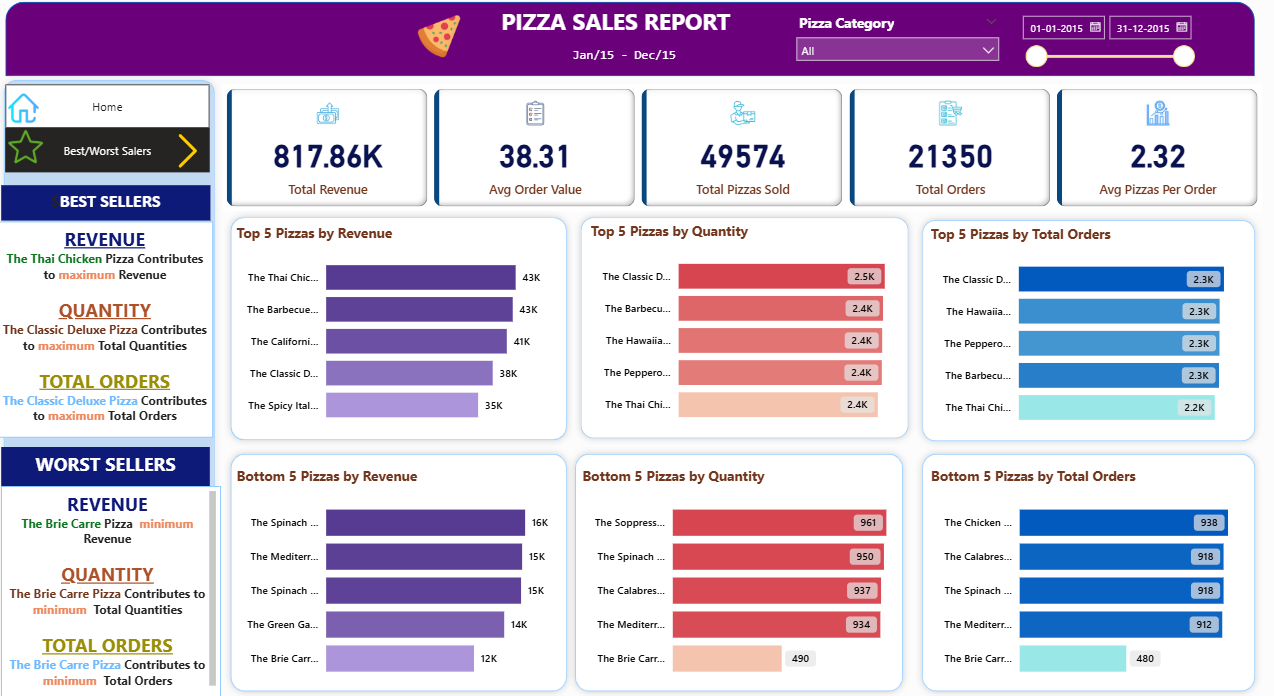

The page's visual inventory and layout, read from the dashboard file:
{"tool":"powerbi","page":{"name":"Best/Worst Salers","canvas":[1500,820],"ordinal":1},"visuals":[{"type":"shape","box":[9.3,3.7,1463,87],"z":0},{"type":"textbox","box":[548.1,3.7,353.7,83.3],"z":1000},{"type":"textbox","box":[668.8,50,143.8,37.5],"z":2000},{"type":"image","box":[487,0,61.1,87],"z":3000},{"type":"shape","box":[0,87,263,733.3],"z":4000},{"type":"cardVisual","fields":{"Data":["pizza_sales.Total Revenue","pizza_sales.Avg Order Value","pizza_sales.Total Pizzas Sold","pizza_sales.Total Orders","pizza_sales.Avg Pizzas Per Order"]},"box":[264.3,100,1217.9,148.2],"z":5000},{"type":"shape","box":[265.4,248.1,409.6,276.9],"z":6000},{"type":"textbox","box":[5,218.8,245,41.2],"z":7000},{"type":"textbox","box":[0,260.6,253,253],"z":8000},{"type":"textbox","box":[5.6,524.1,244.4,46.3],"z":9000},{"type":"textbox","box":[5.6,570.4,257.4,250],"z":10000},{"type":"slicer","fields":{"Values":["pizza_sales.pizza_category"]},"box":[925.9,11.1,257.4,87],"z":11000},{"type":"slicer","fields":{"Values":["pizza_sales.order_date"]},"box":[1188.9,9.3,222.2,79.6],"z":12000},{"type":"shape","box":[675,248.1,400,275],"z":13000},{"type":"shape","box":[1075,250,405.8,275],"z":14000},{"type":"shape","box":[265.4,525,409.6,294.2],"z":15000},{"type":"shape","box":[669.2,525,400,294.2],"z":16000},{"type":"shape","box":[1075,525,405.8,294.2],"z":17000},{"type":"barChart","title":"Top 5 Pizzas by Revenue","fields":{"Category":["pizza_sales.pizza_name"],"Y":["pizza_sales.Total Revenue"]},"box":[275.8,262.1,387.9,248.5],"z":18000},{"type":"barChart","title":"Bottom 5 Pizzas by Revenue","fields":{"Category":["pizza_sales.pizza_name"],"Y":["pizza_sales.Total Revenue"]},"box":[275.8,547,387.9,262.1],"z":19000},{"type":"barChart","title":"Top 5 Pizzas by Quantity","fields":{"Category":["pizza_sales.pizza_name"],"Y":["pizza_sales.Total Pizzas Sold"]},"box":[690.9,260.6,378.8,250],"z":20000},{"type":"barChart","title":"Bottom 5 Pizzas by Quantity","fields":{"Category":["pizza_sales.pizza_name"],"Y":["pizza_sales.Total Pizzas Sold"]},"box":[680.3,547,390.9,262.1],"z":21000},{"type":"barChart","title":"Top 5 Pizzas by Total Orders","fields":{"Category":["pizza_sales.pizza_name"],"Y":["pizza_sales.Total Orders"]},"box":[1087.9,263.6,378.8,250],"z":22000},{"type":"barChart","title":"Bottom 5 Pizzas by Total Orders","fields":{"Category":["pizza_sales.pizza_name"],"Y":["pizza_sales.Total Orders"]},"box":[1087.9,547,384.8,262.1],"z":23000},{"type":"pageNavigator","box":[10,100,239,51],"z":24000},{"type":"pageNavigator","box":[10,151,239,52],"z":25000},{"type":"image","box":[185.2,152.5,77,50.8],"z":26000},{"type":"image","box":[9,105,46,46],"z":27000},{"type":"image","box":[9,148,51,51],"z":28000}]}

Visuals, with their boxes in screenshot pixels (x1, y1, x2, y2), scaled from the page's 1500x820 canvas onto the 1274x696 screenshot:
shape: box(8, 3, 1250, 77)
textbox: box(466, 3, 766, 74)
textbox: box(568, 42, 690, 74)
image: box(414, 0, 466, 74)
shape: box(0, 74, 223, 695)
cardVisual - pizza_sales.Total Revenue x pizza_sales.Avg Order Value: box(224, 85, 1259, 211)
shape: box(225, 211, 573, 446)
textbox: box(4, 186, 212, 221)
textbox: box(0, 221, 215, 436)
textbox: box(5, 445, 212, 484)
textbox: box(5, 484, 223, 695)
slicer - pizza_sales.pizza_category: box(786, 9, 1005, 83)
slicer - pizza_sales.order_date: box(1010, 8, 1198, 75)
shape: box(573, 211, 913, 444)
shape: box(913, 212, 1258, 446)
shape: box(225, 446, 573, 695)
shape: box(568, 446, 908, 695)
shape: box(913, 446, 1258, 695)
"Top 5 Pizzas by Revenue" barChart: box(234, 222, 564, 433)
"Bottom 5 Pizzas by Revenue" barChart: box(234, 464, 564, 687)
"Top 5 Pizzas by Quantity" barChart: box(587, 221, 909, 433)
"Bottom 5 Pizzas by Quantity" barChart: box(578, 464, 910, 687)
"Top 5 Pizzas by Total Orders" barChart: box(924, 224, 1246, 436)
"Bottom 5 Pizzas by Total Orders" barChart: box(924, 464, 1251, 687)
pageNavigator: box(8, 85, 211, 128)
pageNavigator: box(8, 128, 211, 172)
image: box(157, 129, 223, 173)
image: box(8, 89, 47, 128)
image: box(8, 126, 51, 169)
